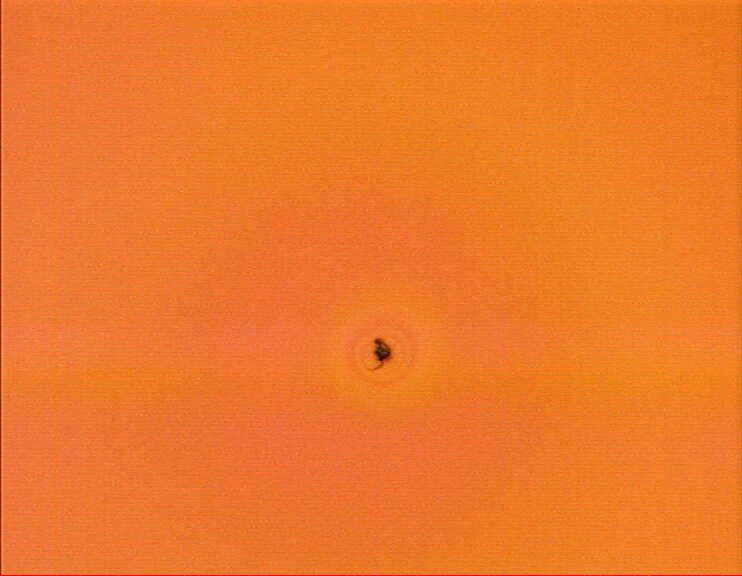PIQ PARTICLE: (361, 336, 398, 374)
